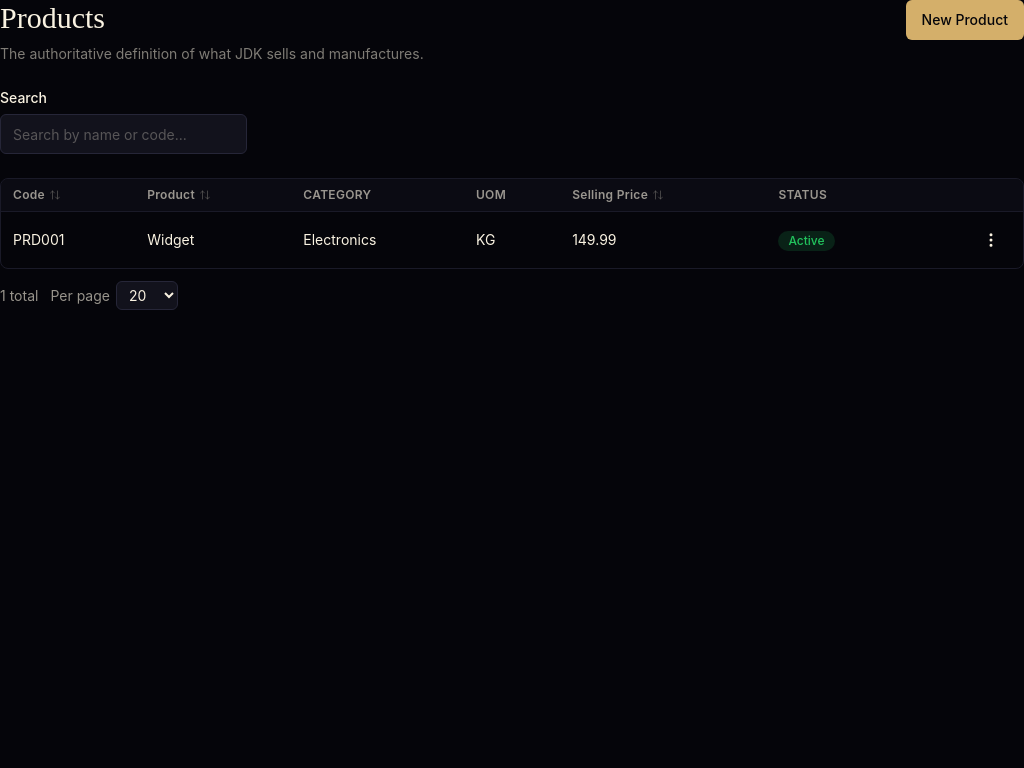
Test case: ProductsPage › shows an error message when changing status fails
The image size is (1024, 768).
Expected: the text "Widget" is shown, [135,212,291,268]
Click the button named "Actions for".
click(991, 240)  # box [971,220,1011,260]
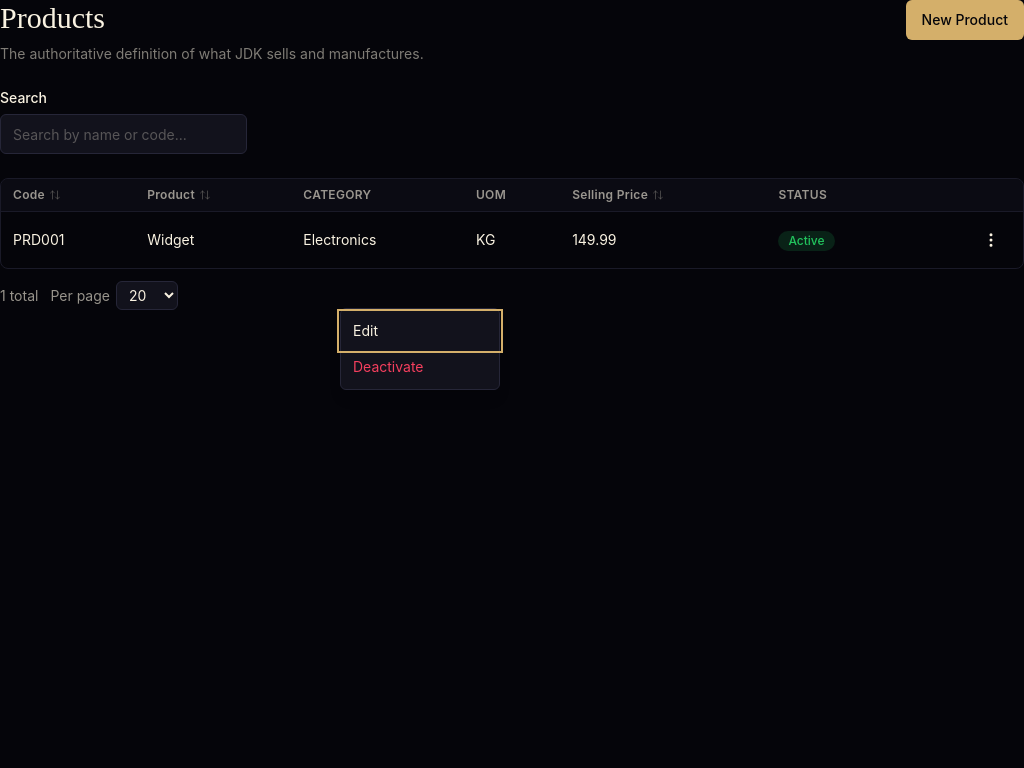
Click the menu item "Deactivate".
click(420, 367)  # box [341,349,499,385]
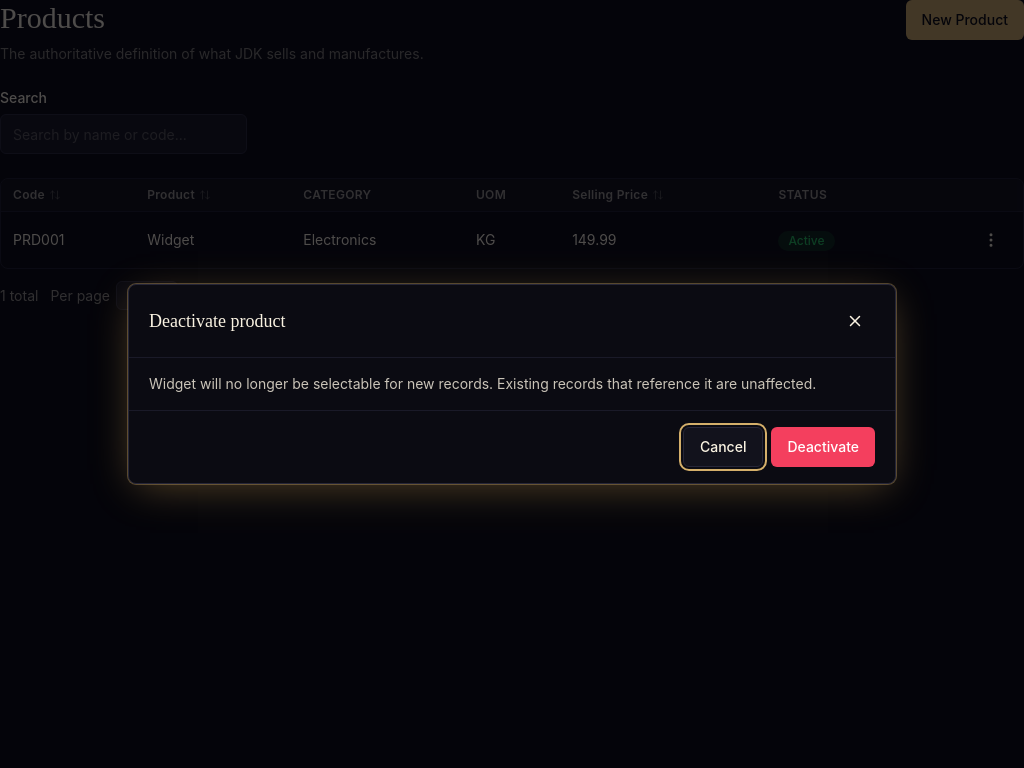
Click the button "Deactivate".
click(823, 447)  # box [772,427,875,467]
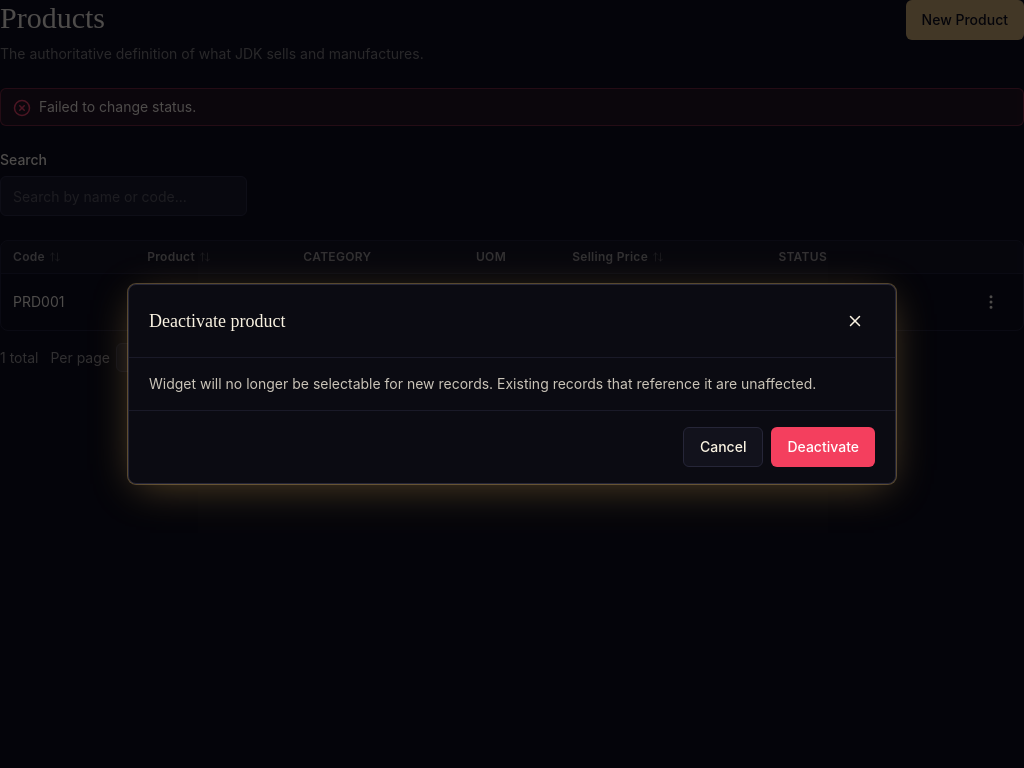
Result: the text "Failed to change status." is shown at [39,97,196,117]
